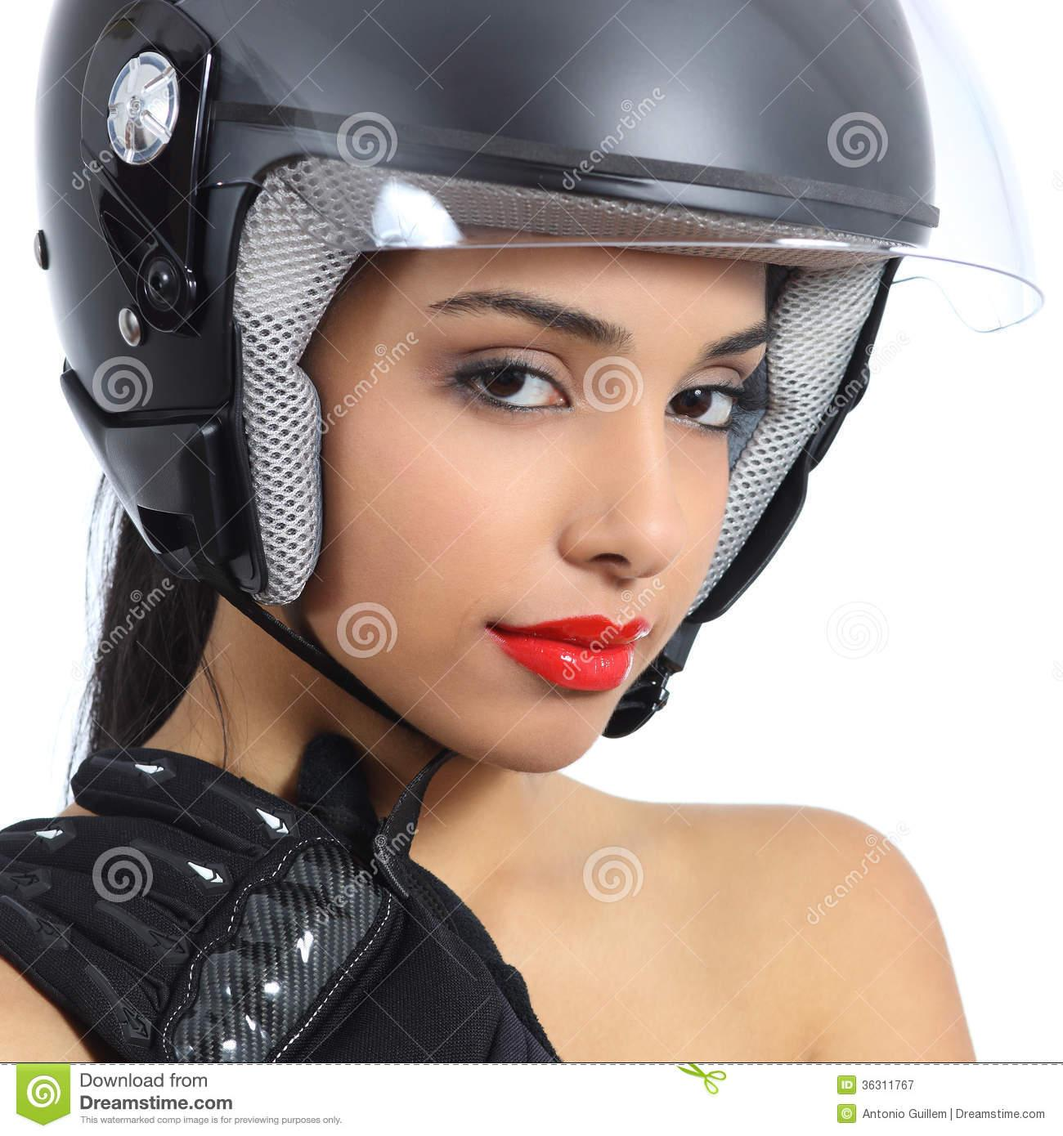helmet: (6, 0, 1063, 651)
